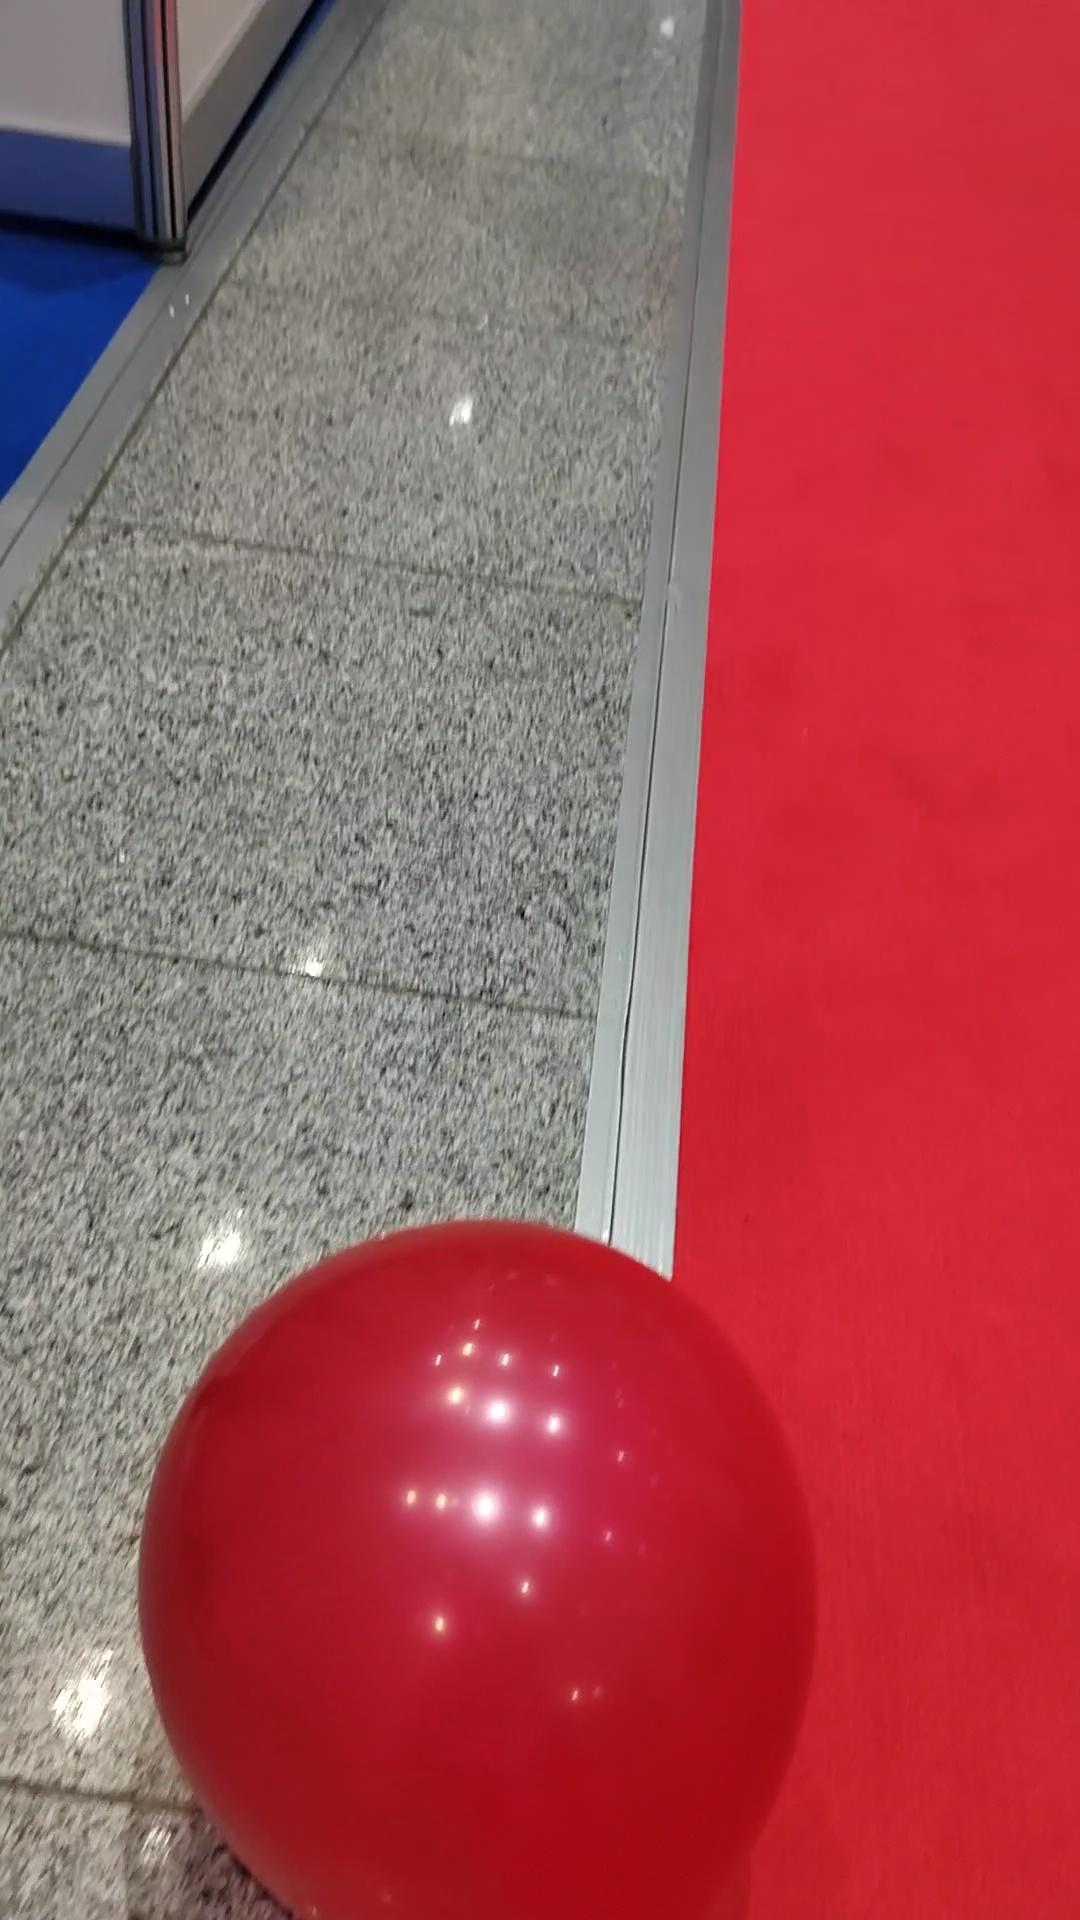red: (102, 1213, 833, 1920)
